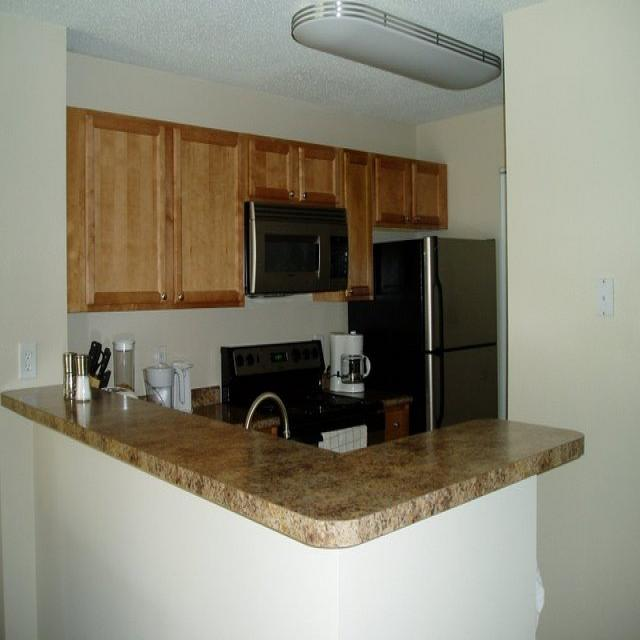2036: (3, 360, 583, 531)
AC recepticle: (16, 339, 35, 380)
Ceiling light: (289, 1, 501, 92)
coffee maker: (327, 328, 367, 393)
fridge crop: (372, 233, 498, 445)
kitchen desk: (65, 105, 447, 313)
microwave oven: (247, 196, 367, 297)
salt_pepper cellar: (54, 343, 96, 415)
